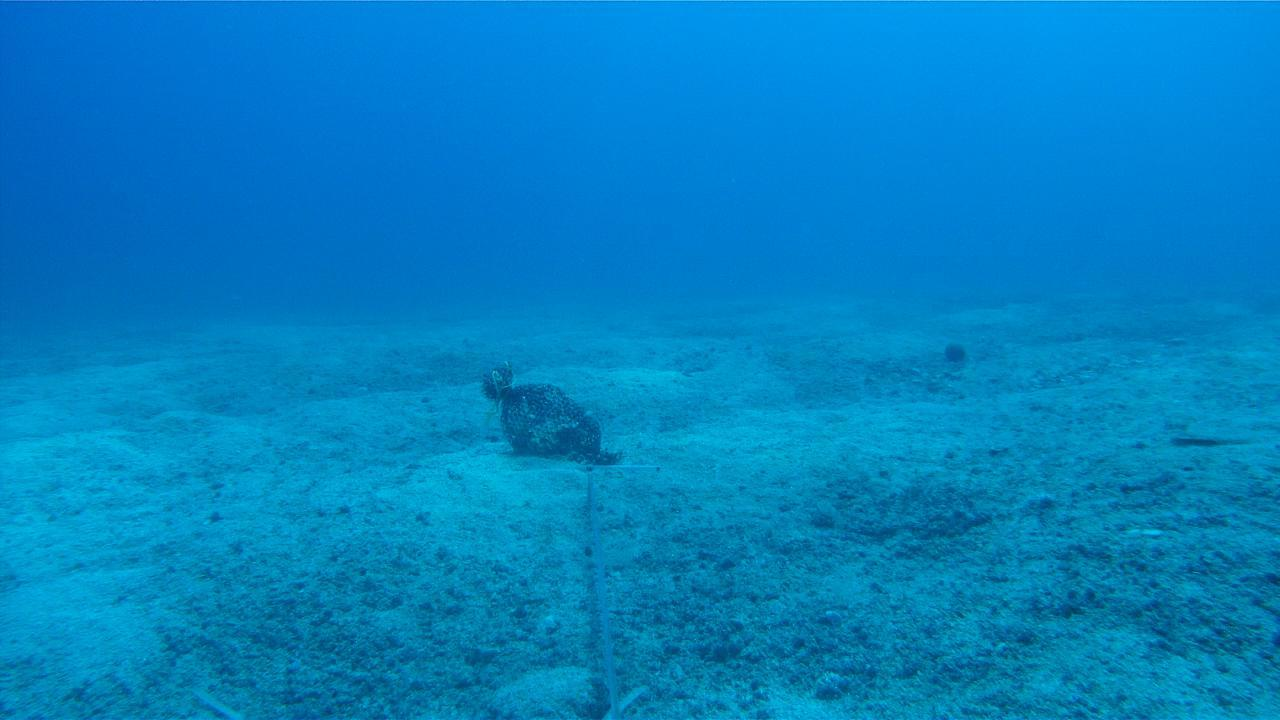bothus: (1160, 416, 1262, 448)
